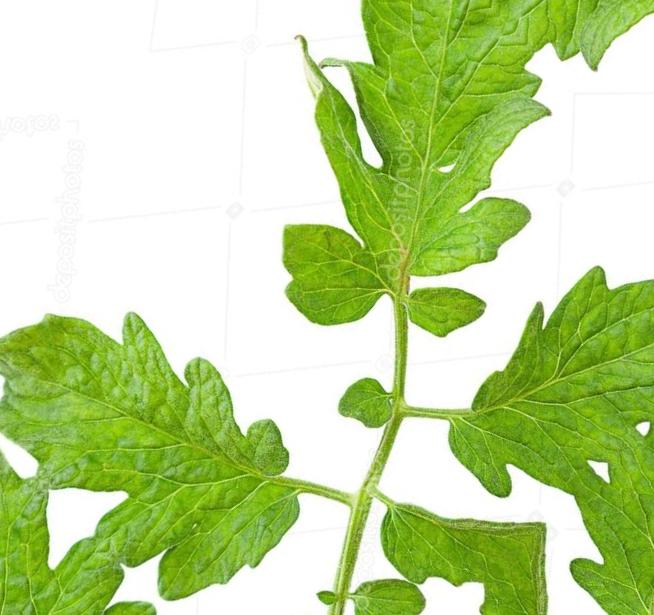Tomato leaf: (95, 0, 633, 421), (0, 215, 349, 615), (424, 191, 654, 539), (345, 410, 559, 615)
